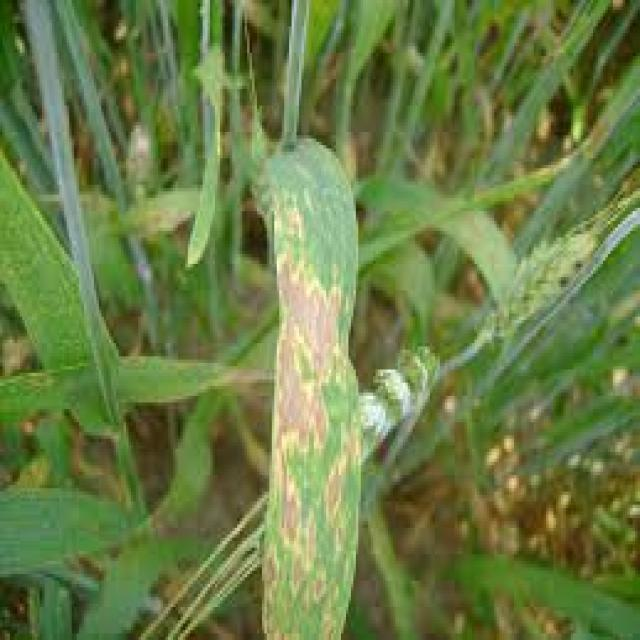leaf_blight: (257, 139, 361, 637)
